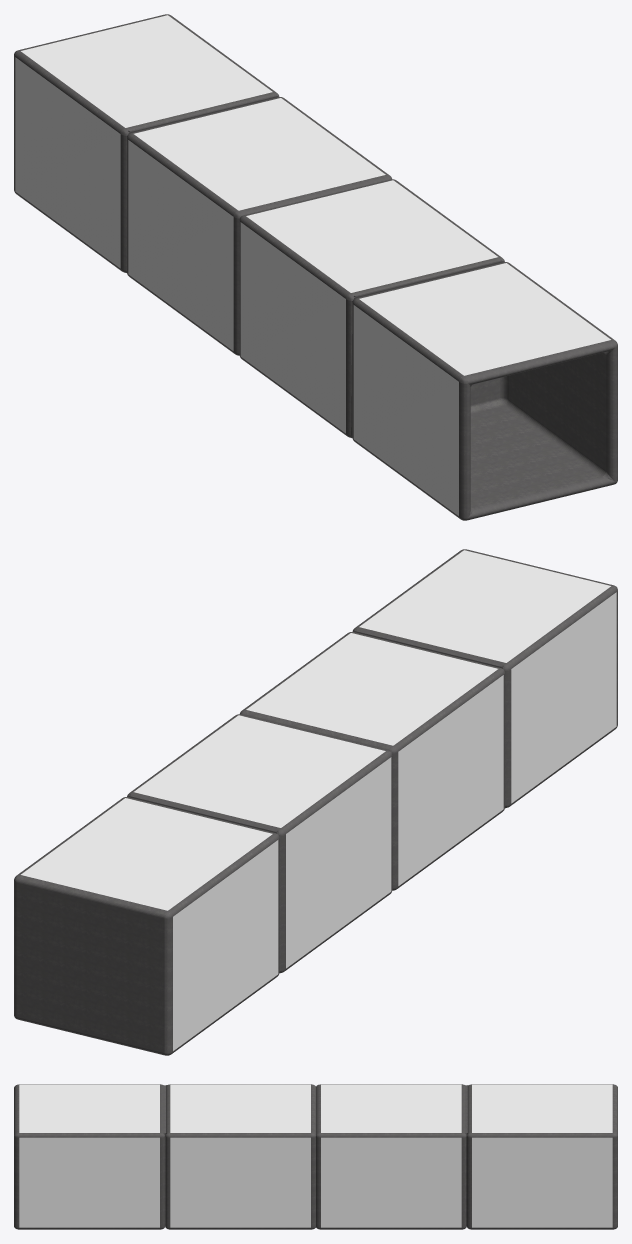
The picture shows the model from 3 angles, top to bottom: view 1: azimuth 30°, elevation 25°; view 2: azimuth 150°, elevation 25°; view 3: azimuth 270°, elevation 25°; orthographic projection. The views are drawn at different scales.
Parts seen in each view (by area): view 1: haur.001; view 2: haur.001; view 3: haur.001.
Boxes of the visible parts, x1=… form: haur.001: x1=14, y1=14, x2=617, y2=520; haur.001: x1=14, y1=549, x2=617, y2=1055; haur.001: x1=14, y1=1084, x2=617, y2=1229.
Size of the model in its own units: 6.95 by 6.17 by 34.47.
Materials: 5 (2 with a texture image).
